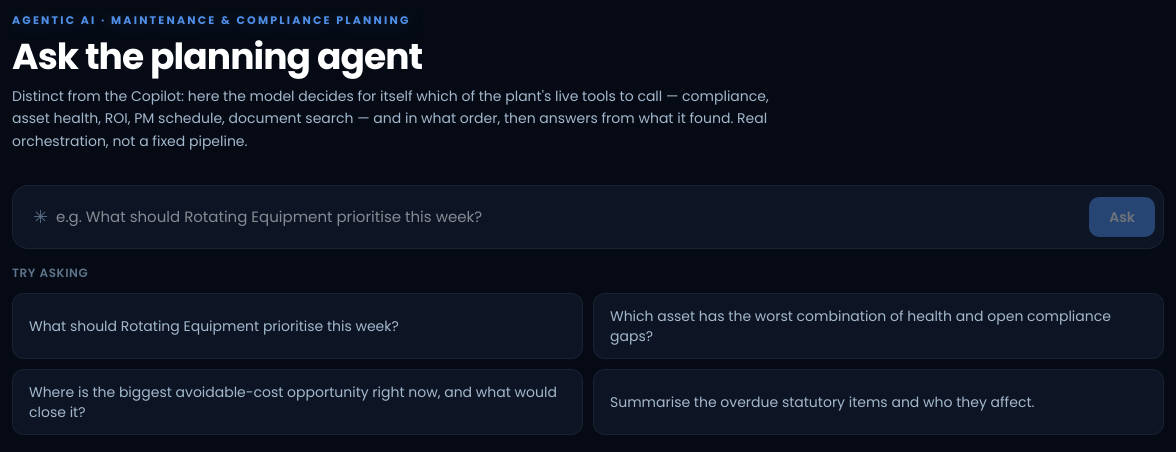
Test: Planning Agent page › shows a generic error card on an unexpected failure (not 503)
This screenshot has width=1176, height=452.
Type "Anything" into the field with placeholder "e.g. What should Rotating Equipment prioritise this week?" at (569, 217), box [56,194,1081,240]
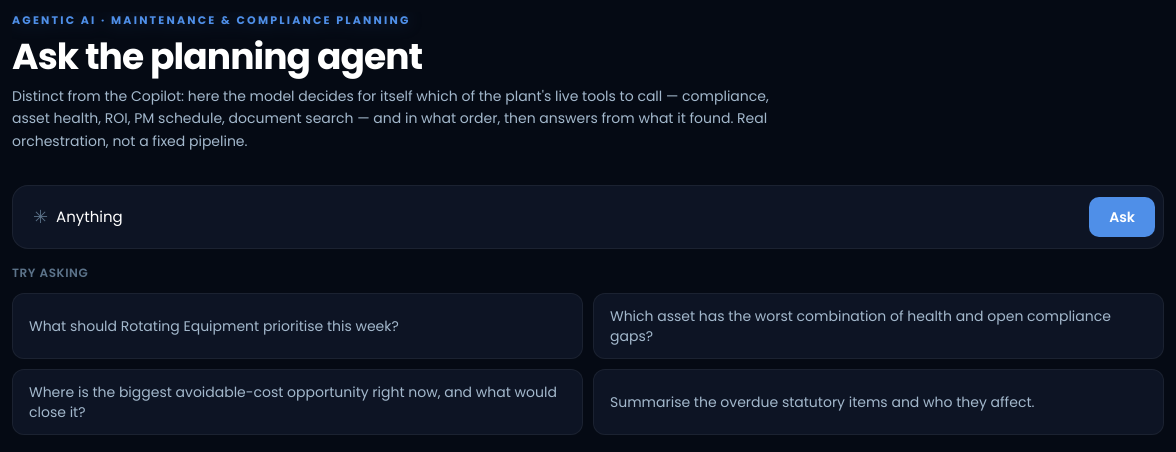
Click the button "Ask" at (1122, 217), box [1089,197,1155,237]
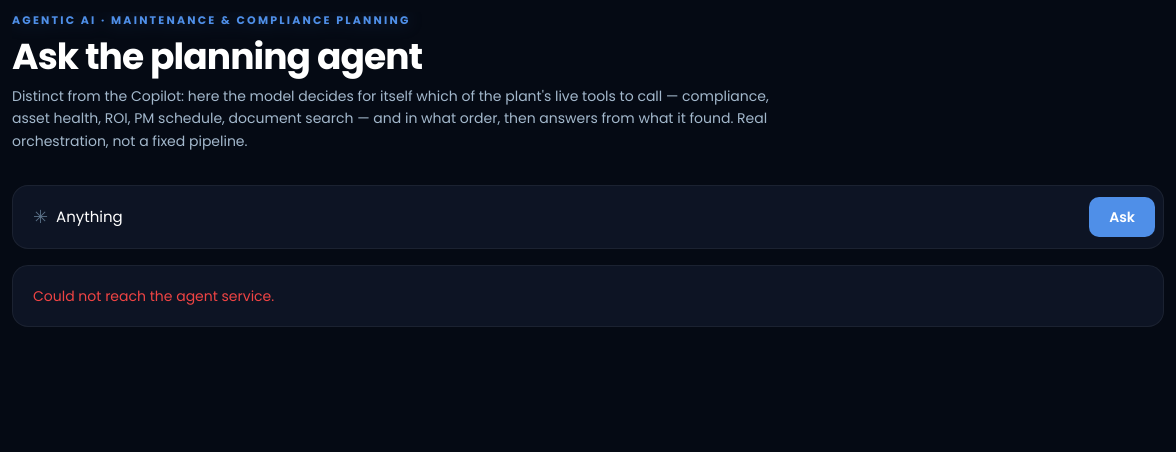
Check: the text "Could not reach the agent service." is shown, box [33,286,274,306]
